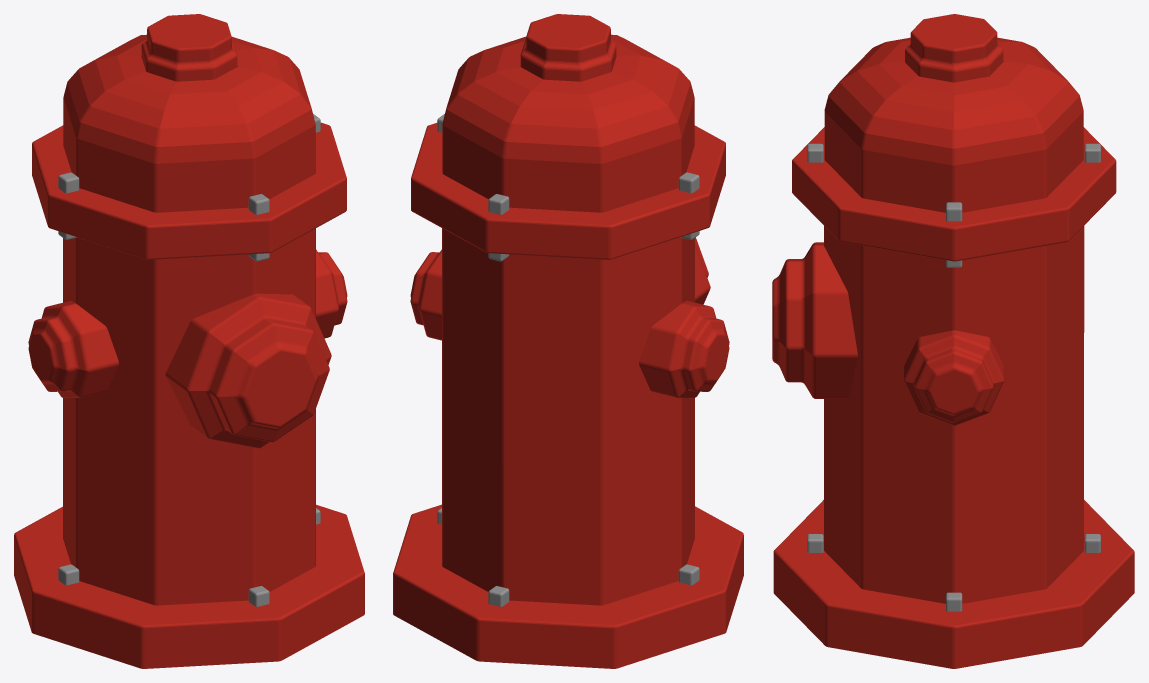
Rendered from Hidrante (1).fbx.
The picture shows the model from 3 angles, left to right: view 1: azimuth 30°, elevation 25°; view 2: azimuth 150°, elevation 25°; view 3: azimuth 270°, elevation 25°; orthographic projection.
Parts seen in each view (by area): view 1: Hidrante; view 2: Hidrante; view 3: Hidrante.
Boxes of the visible parts, left/top/right/bottom form: Hidrante: left=14, top=14, right=364, bottom=668; Hidrante: left=393, top=14, right=743, bottom=668; Hidrante: left=772, top=14, right=1134, bottom=668.
Size of the model in its own units: 45.18 by 77.51 by 45.34.
